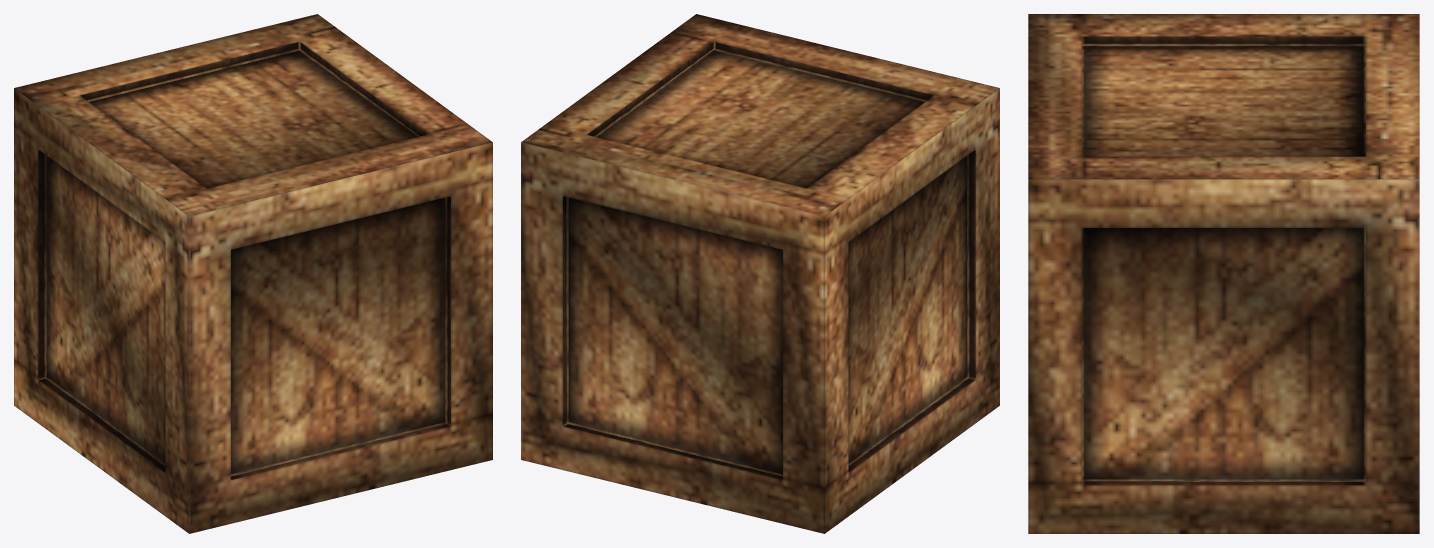
File: cratewood.glb
The picture shows the model from 3 angles, left to right: view 1: azimuth 30°, elevation 25°; view 2: azimuth 150°, elevation 25°; view 3: azimuth 270°, elevation 25°; orthographic projection. The views are drawn at different scales.
Parts seen in each view (by area): view 1: CrateWood; view 2: CrateWood; view 3: CrateWood.
Boxes of the visible parts, left/top/right/bottom form: CrateWood: left=14, top=14, right=492, bottom=533; CrateWood: left=521, top=14, right=999, bottom=533; CrateWood: left=1028, top=14, right=1419, bottom=533.
Bounding box in the file's own units: 0.6 × 0.6 × 0.6.
Materials: 1 (1 with a texture image).
